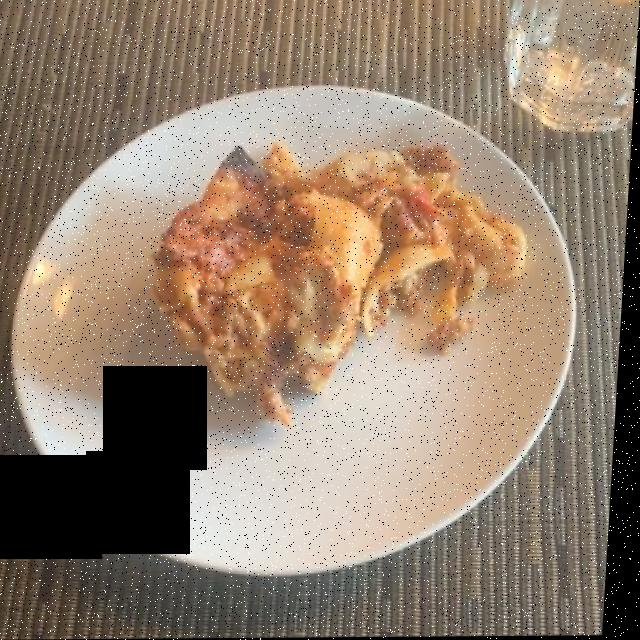lasagne-meat-prepared: (161, 149, 529, 420)
